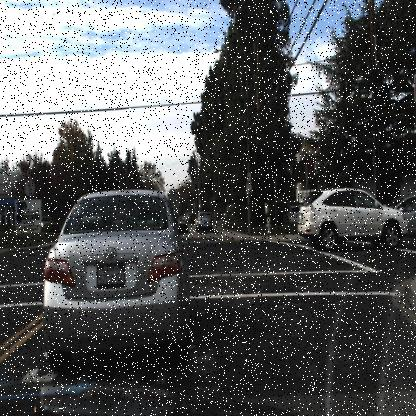car: (41, 180, 194, 360), (289, 183, 411, 258), (402, 173, 416, 247), (191, 204, 218, 236), (280, 199, 306, 231), (37, 209, 56, 238)
